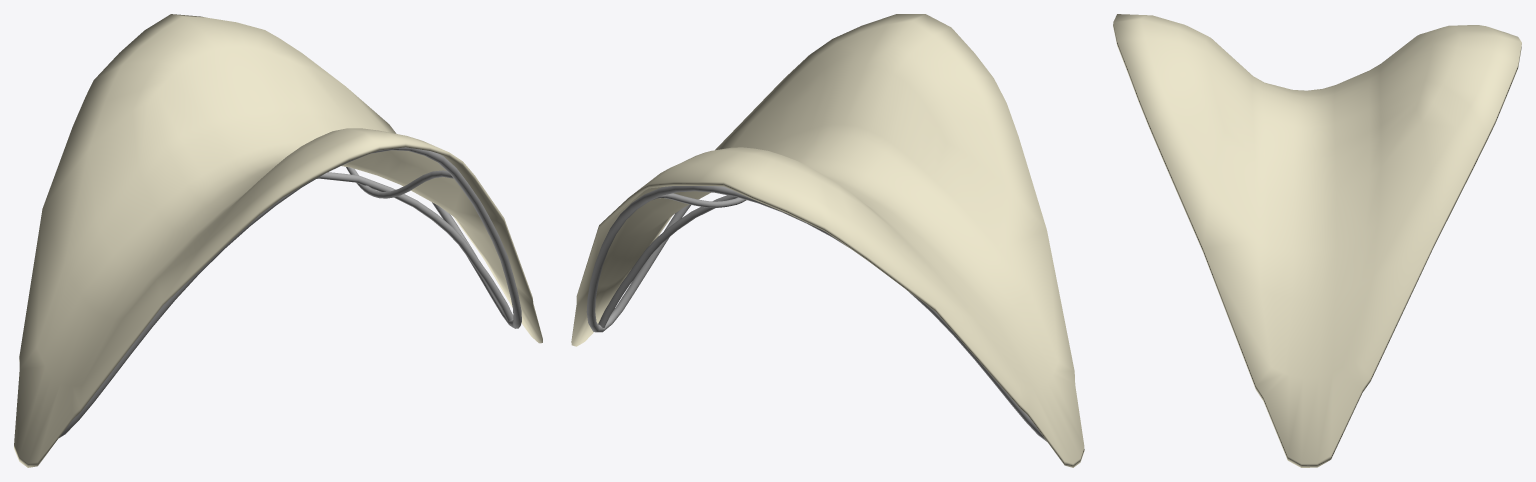
Rendered from Coberta_Auditorio_Principal.fbx.
The picture shows the model from 3 angles, left to right: view 1: azimuth 30°, elevation 25°; view 2: azimuth 150°, elevation 25°; view 3: azimuth 270°, elevation 25°; orthographic projection. The views are drawn at different scales.
Parts seen in each view (by area): view 1: Auditorio Coberta, Ferro Coberta; view 2: Auditorio Coberta, Ferro Coberta; view 3: Auditorio Coberta.
Boxes of the visible parts, left/top/right/bottom form: Auditorio Coberta: left=14, top=14, right=542, bottom=467; Ferro Coberta: left=59, top=147, right=521, bottom=437; Auditorio Coberta: left=571, top=14, right=1084, bottom=467; Ferro Coberta: left=586, top=186, right=1046, bottom=441; Auditorio Coberta: left=1113, top=14, right=1521, bottom=467.
Size of the model in its own units: 2828 by 1756 by 1993.
